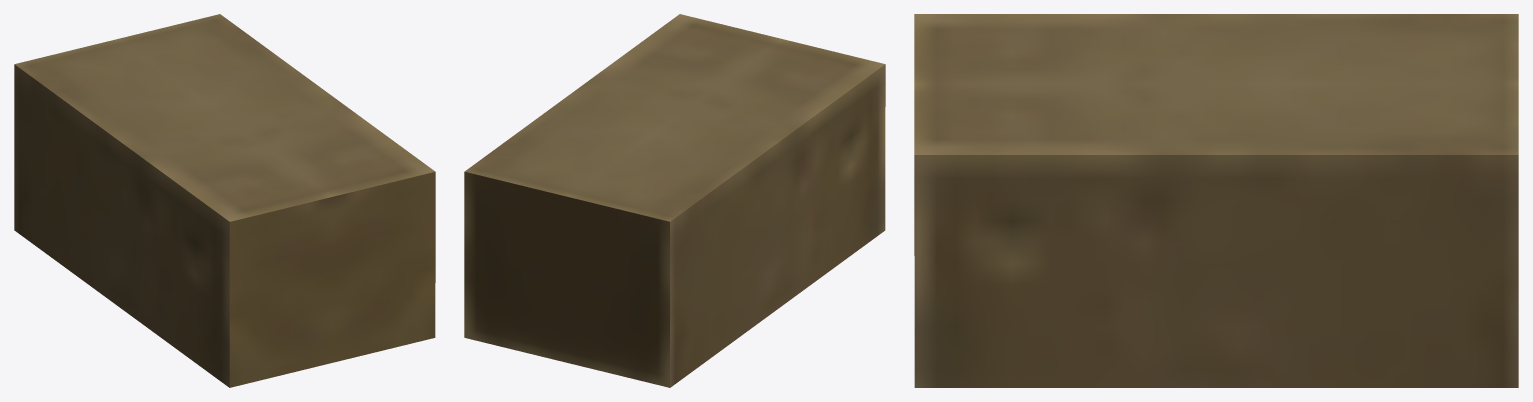
File: Battle04_Cub_10.FBX
The picture shows the model from 3 angles, left to right: view 1: azimuth 30°, elevation 25°; view 2: azimuth 150°, elevation 25°; view 3: azimuth 270°, elevation 25°; orthographic projection. The views are drawn at different scales.
Parts seen in each view (by area): view 1: Battle04_Cub_10; view 2: Battle04_Cub_10; view 3: Battle04_Cub_10.
Part boxes in pixels (left/top/right/bottom): Battle04_Cub_10: left=14, top=14, right=435, bottom=387; Battle04_Cub_10: left=464, top=14, right=885, bottom=387; Battle04_Cub_10: left=914, top=14, right=1518, bottom=387.
Bounding box in the file's own units: 0.677 × 0.5225 × 1.23.
